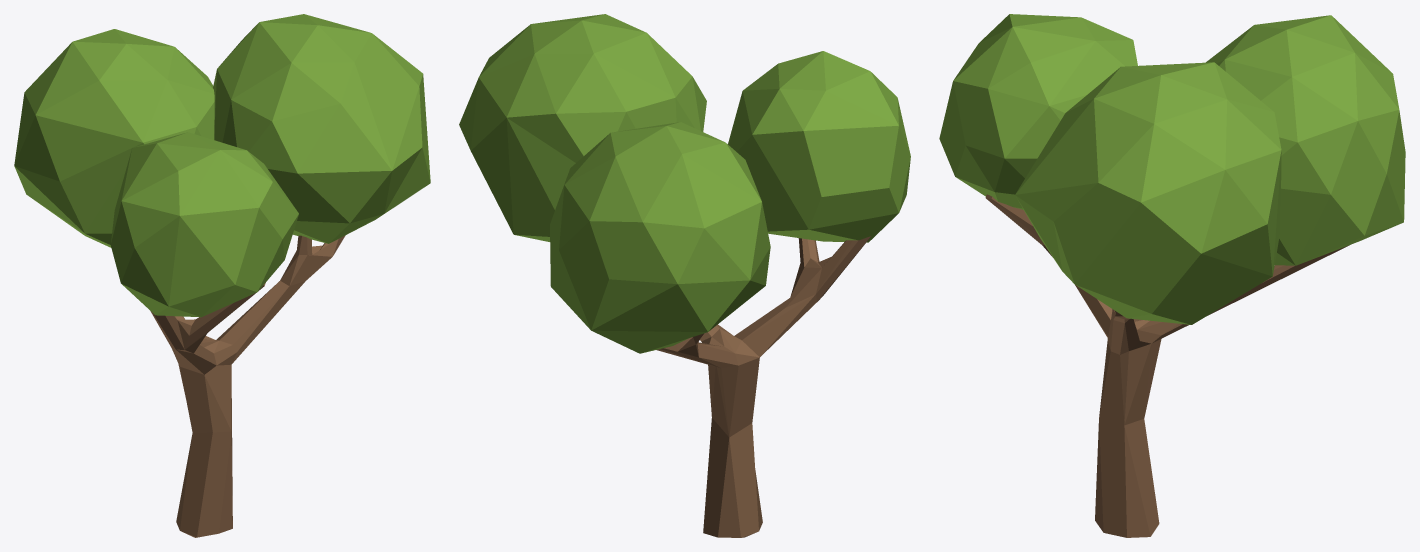
File: tree2.fbx
3 renders of one model, left to right at view 1: azimuth 30°, elevation 25°; view 2: azimuth 150°, elevation 25°; view 3: azimuth 270°, elevation 25°, orthographic. The views are drawn at different scales.
Parts seen in each view (by area): view 1: Plane; view 2: Plane; view 3: Plane.
Boxes of the visible parts, left/top/right/bottom form: Plane: left=14, top=14, right=430, bottom=537; Plane: left=459, top=14, right=910, bottom=537; Plane: left=939, top=14, right=1405, bottom=537.
Size of the model in its own units: 760 by 977 by 780.
